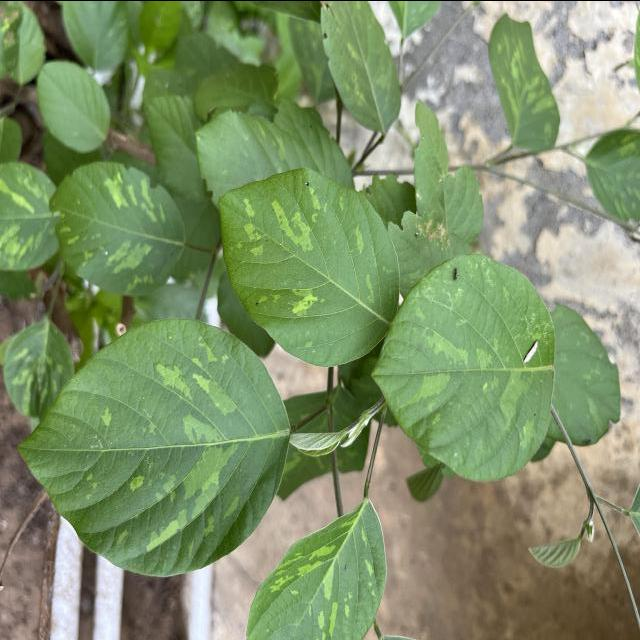Desmodium gangeticum: (15, 312, 294, 580), (368, 248, 560, 486), (214, 164, 404, 370), (242, 496, 390, 640)
